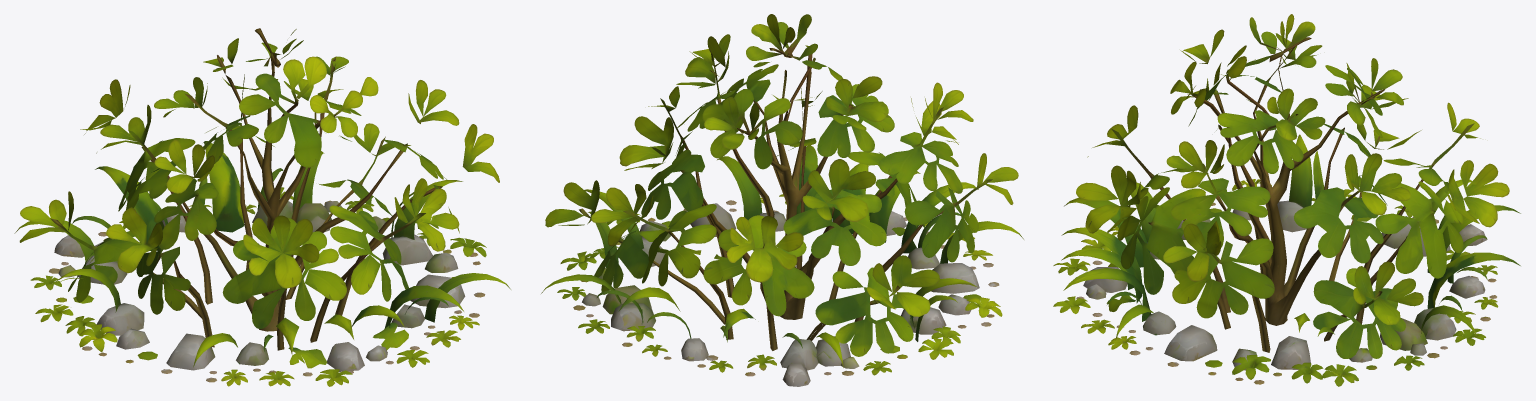
Rendered from bush.glb.
The picture shows the model from 3 angles, left to right: view 1: azimuth 30°, elevation 25°; view 2: azimuth 150°, elevation 25°; view 3: azimuth 270°, elevation 25°; orthographic projection. The views are drawn at different scales.
Visible parts, largest first — view 1: tripo_96cf025a_0ad7_4a11_9b7d_7c95a4890c88; view 2: tripo_96cf025a_0ad7_4a11_9b7d_7c95a4890c88; view 3: tripo_96cf025a_0ad7_4a11_9b7d_7c95a4890c88.
Boxes of the visible parts, <box> form: tripo_96cf025a_0ad7_4a11_9b7d_7c95a4890c88: <box>14,28,510,386</box>; tripo_96cf025a_0ad7_4a11_9b7d_7c95a4890c88: <box>541,14,1023,386</box>; tripo_96cf025a_0ad7_4a11_9b7d_7c95a4890c88: <box>1053,14,1520,386</box>.
Bounding box in the file's own units: 0.9995 × 0.7183 × 0.9976.
Materials: 1 (1 with a texture image).
